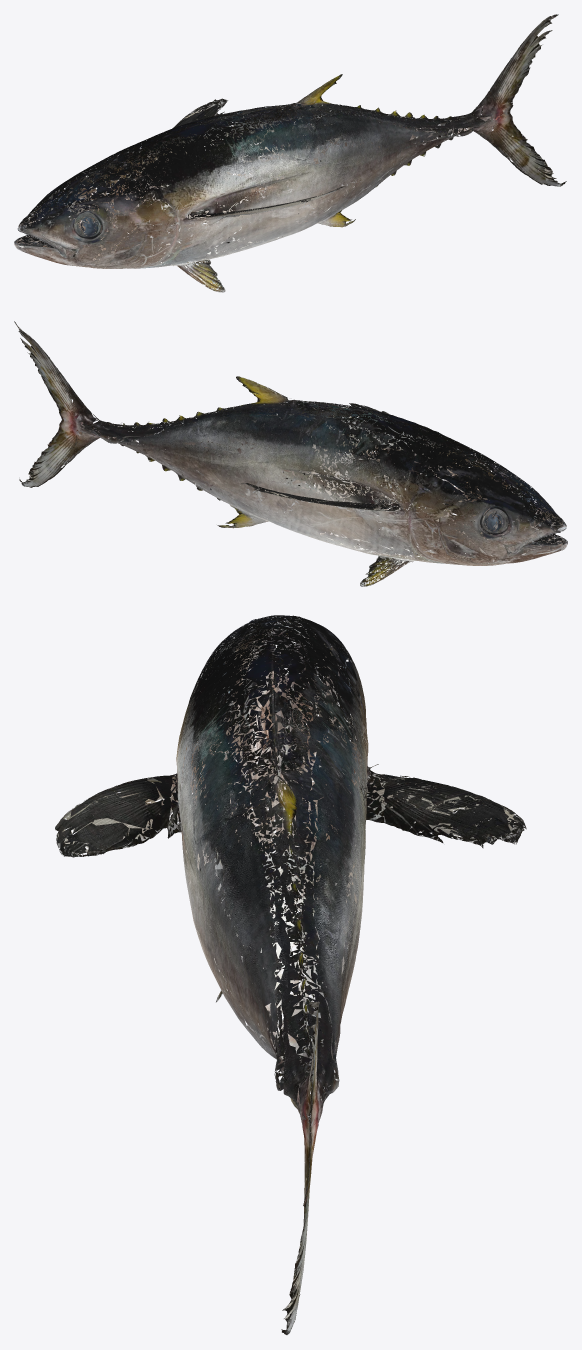
File: yellowfin-tuna.glb
3 views of the same model, one above another, from view 1: azimuth 30°, elevation 25°; view 2: azimuth 150°, elevation 25°; view 3: azimuth 270°, elevation 25° (orthographic). The views are drawn at different scales.
Visible parts, largest first — view 1: Object_13, Object_20, Object_6; view 2: Object_6, Object_20, Object_13; view 3: Object_13, Object_6, Object_20.
Part boxes in pixels (left/top/right/bottom): Object_13: left=14, top=20, right=549, bottom=292; Object_20: left=14, top=14, right=565, bottom=292; Object_6: left=15, top=14, right=566, bottom=291; Object_6: left=14, top=321, right=565, bottom=586; Object_20: left=14, top=321, right=567, bottom=586; Object_13: left=20, top=331, right=567, bottom=586; Object_13: left=57, top=615, right=523, bottom=1318; Object_6: left=55, top=616, right=526, bottom=1334; Object_20: left=56, top=615, right=525, bottom=1334.
Size of the model in its own units: 23.43 by 7.07 by 8.71.
Materials: 3 (3 with a texture image).
